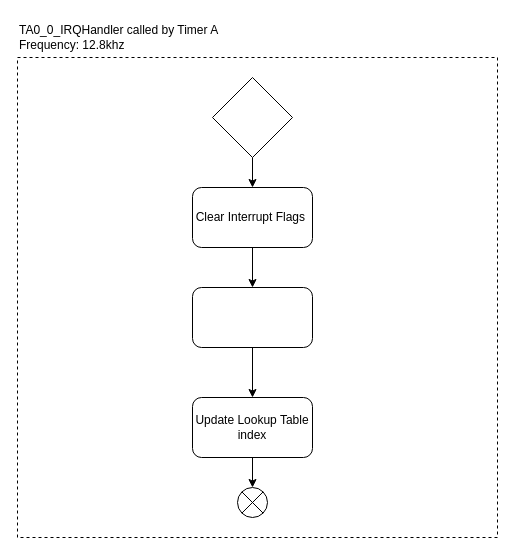
This 515x555 diagram has some shape labels left out. Each missing label, with the box of its shape:
Generate PWM Signal: (192, 286, 312, 348)
Start: (212, 76, 292, 158)
